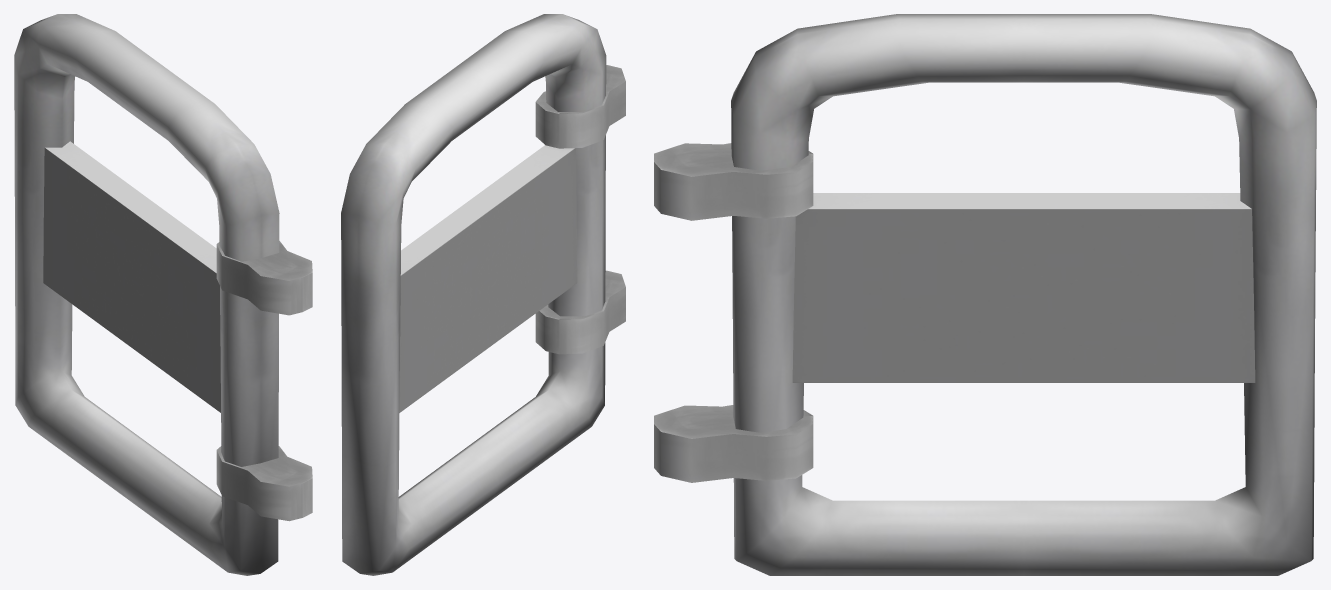
The picture shows the model from 3 angles, left to right: view 1: azimuth 30°, elevation 25°; view 2: azimuth 150°, elevation 25°; view 3: azimuth 270°, elevation 25°; orthographic projection. The views are drawn at different scales.
Parts seen in each view (by area): view 1: Object02; view 2: Object02; view 3: Object02.
Part boxes in pixels (x1=…): Object02: x1=14, y1=14, x2=312, y2=575; Object02: x1=341, y1=14, x2=625, y2=575; Object02: x1=654, y1=14, x2=1316, y2=575.
Size of the model in its own units: 0.466 by 3.38 by 3.12.
